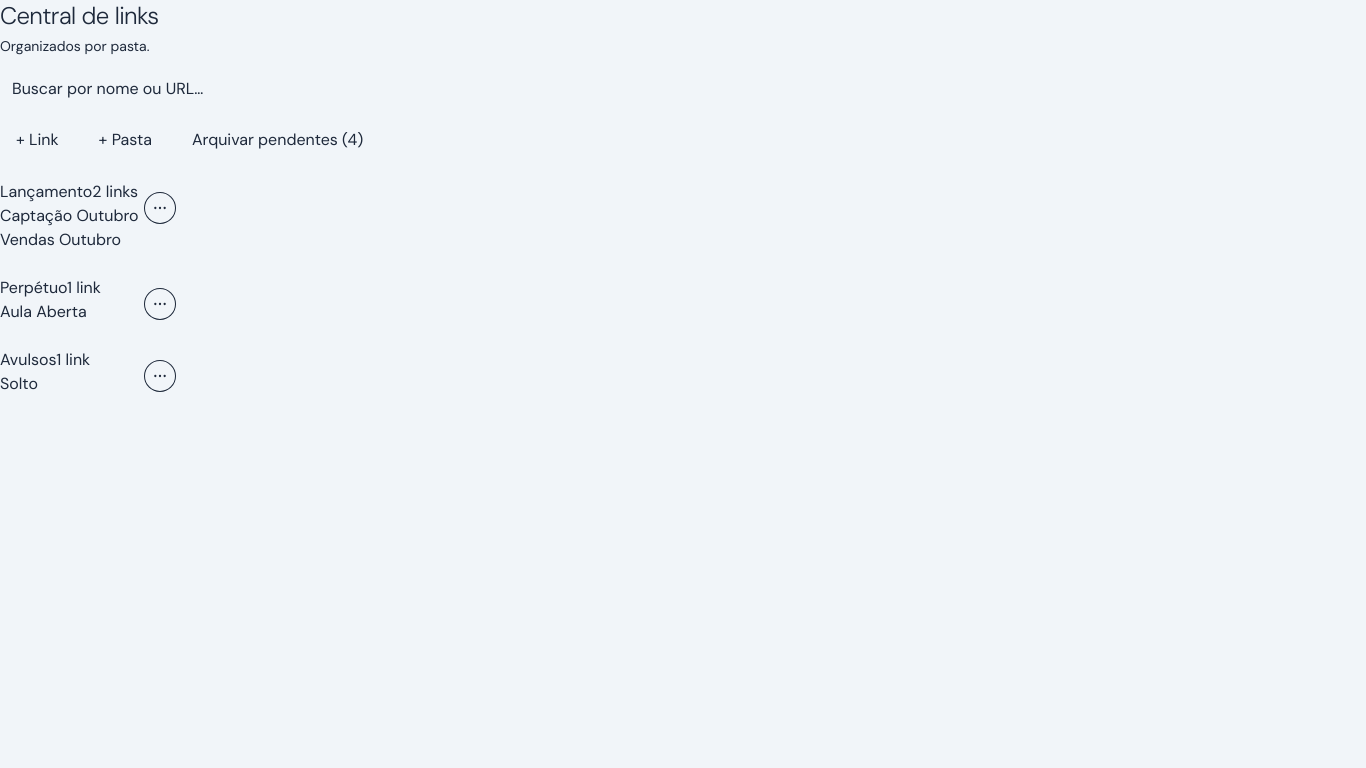
Test case: Central de links: fila Arquivar pendentes › navegador de captura indisponível vira uma explicação clara no aviso final
Expected: the element named "Pastas" is shown, [0,180,176,396]
Click the button "Arquivar pendentes (4)" at (278, 140), box [176,120,379,160]
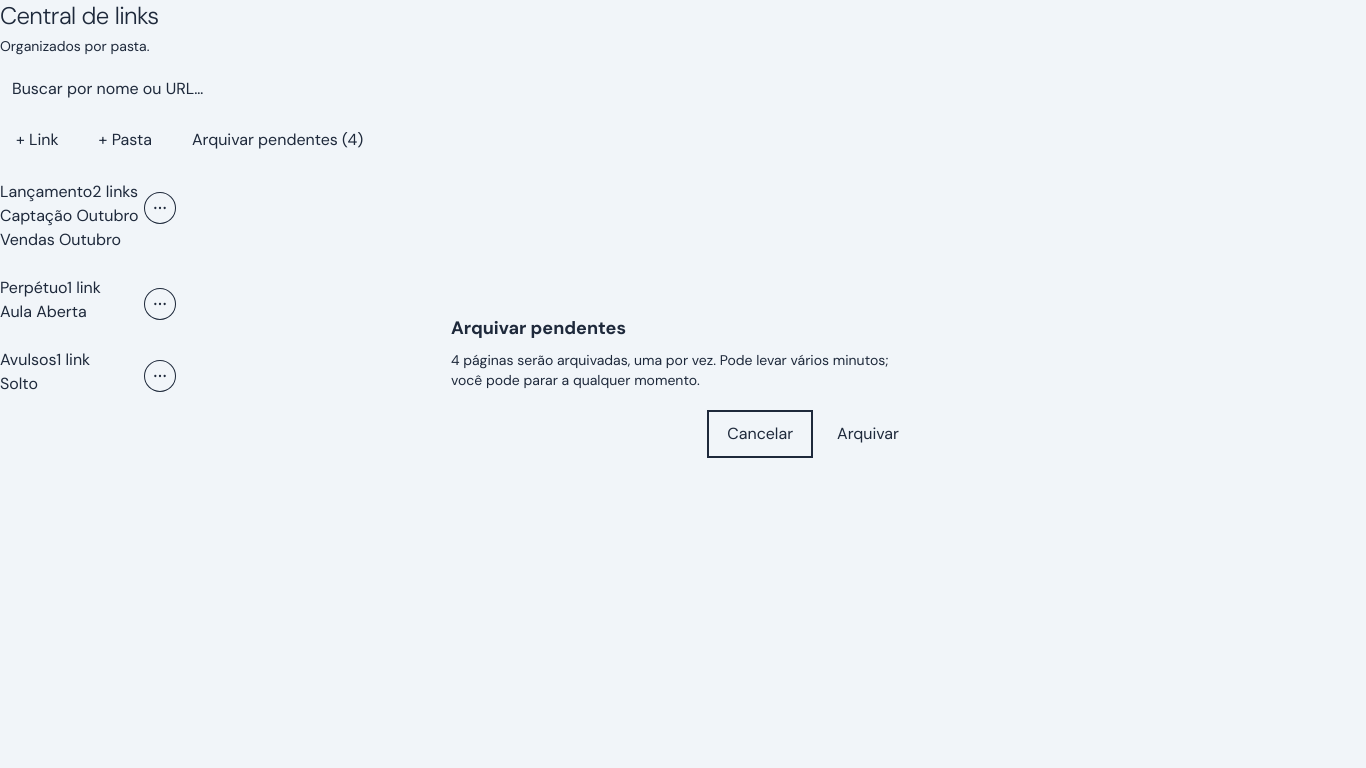
Click the button "Arquivar" at (868, 434), box [821,414,915,454]
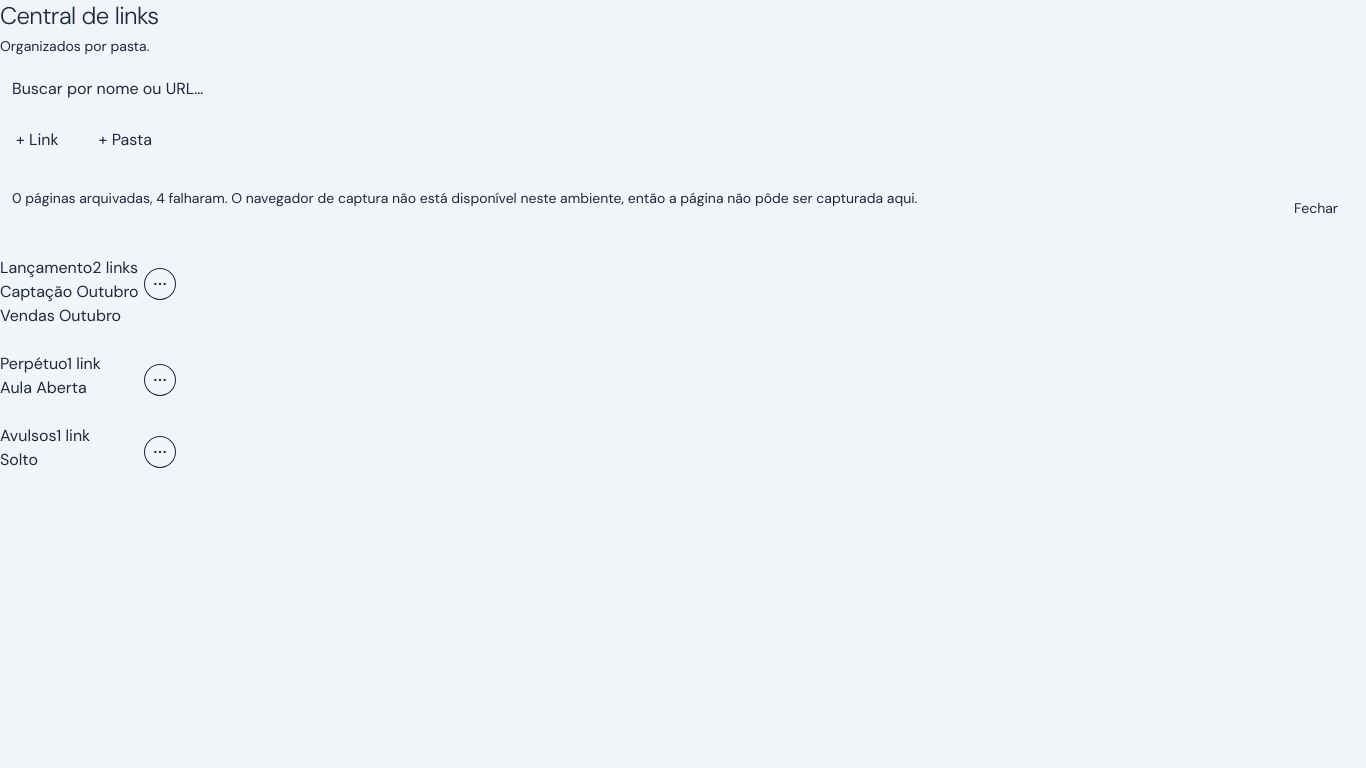
Expected: the message with test id "resumo-fila" shows "navegador de captura", [12,189,917,207]
Expected: the message with test id "resumo-fila" shows "4 falharam", [12,189,917,207]
